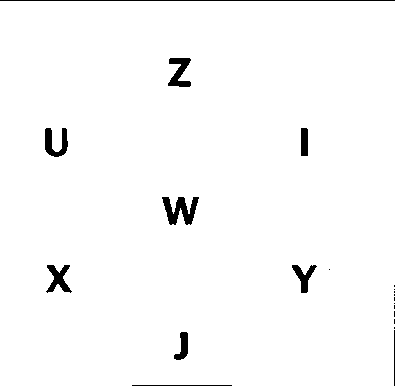I: (295, 122, 320, 164)
U: (41, 125, 73, 162)
